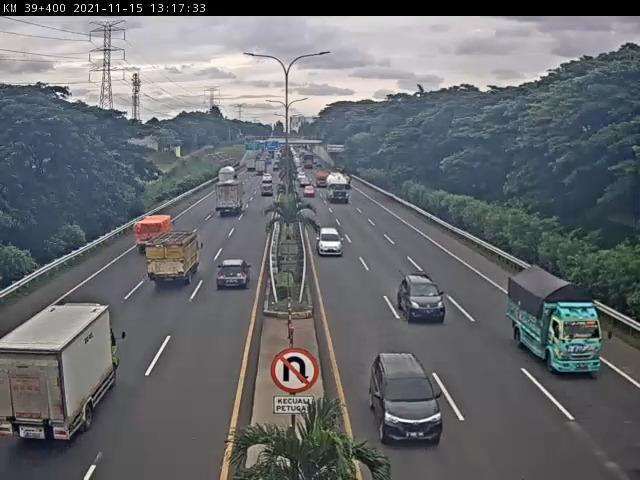car: (367, 351, 445, 451), (396, 270, 446, 324), (217, 258, 254, 293), (318, 226, 345, 257), (259, 185, 277, 202), (302, 183, 318, 200)
truck: (1, 304, 119, 447), (510, 267, 609, 377), (145, 230, 202, 289), (136, 215, 179, 255), (215, 181, 247, 218), (324, 171, 351, 204)
